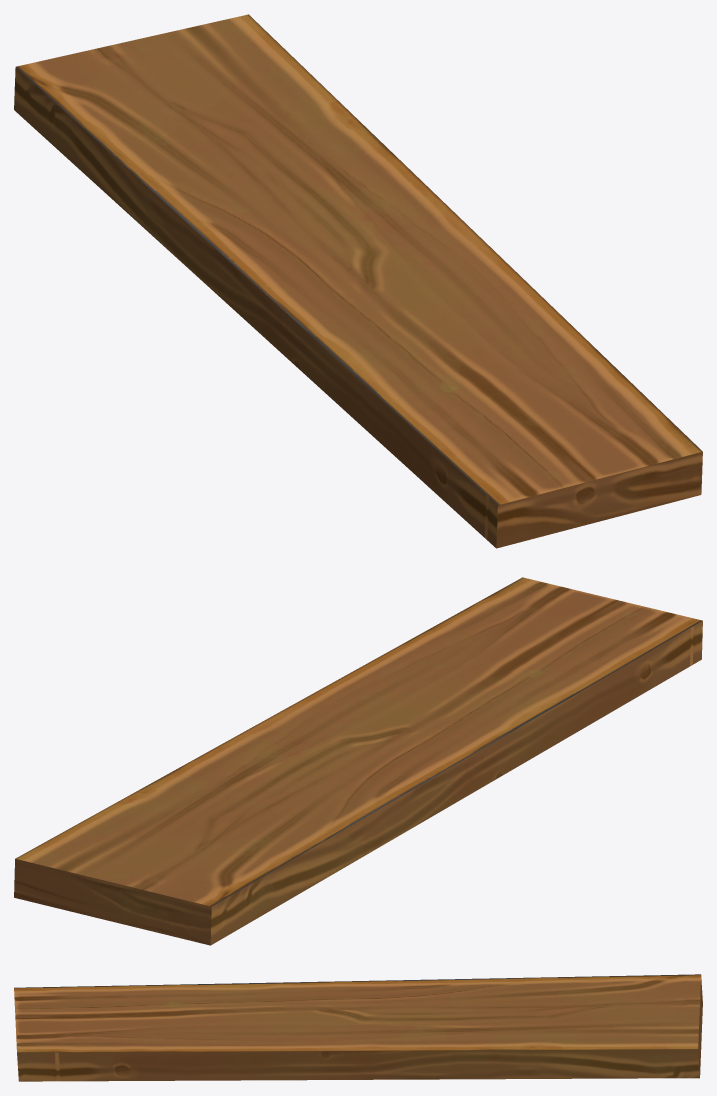
3 renders of one model, top to bottom at view 1: azimuth 30°, elevation 25°; view 2: azimuth 150°, elevation 25°; view 3: azimuth 270°, elevation 25°, orthographic. The views are drawn at different scales.
Parts seen in each view (by area): view 1: Cube.489; view 2: Cube.489; view 3: Cube.489.
Part boxes in pixels (x1,y1,x2,y2): Cube.489: (14,14,702,548); Cube.489: (14,577,702,945); Cube.489: (14,974,702,1081).
Bounding box in the file's own units: 69.61 × 20.86 × 231.
Materials: 1 (1 with a texture image).
